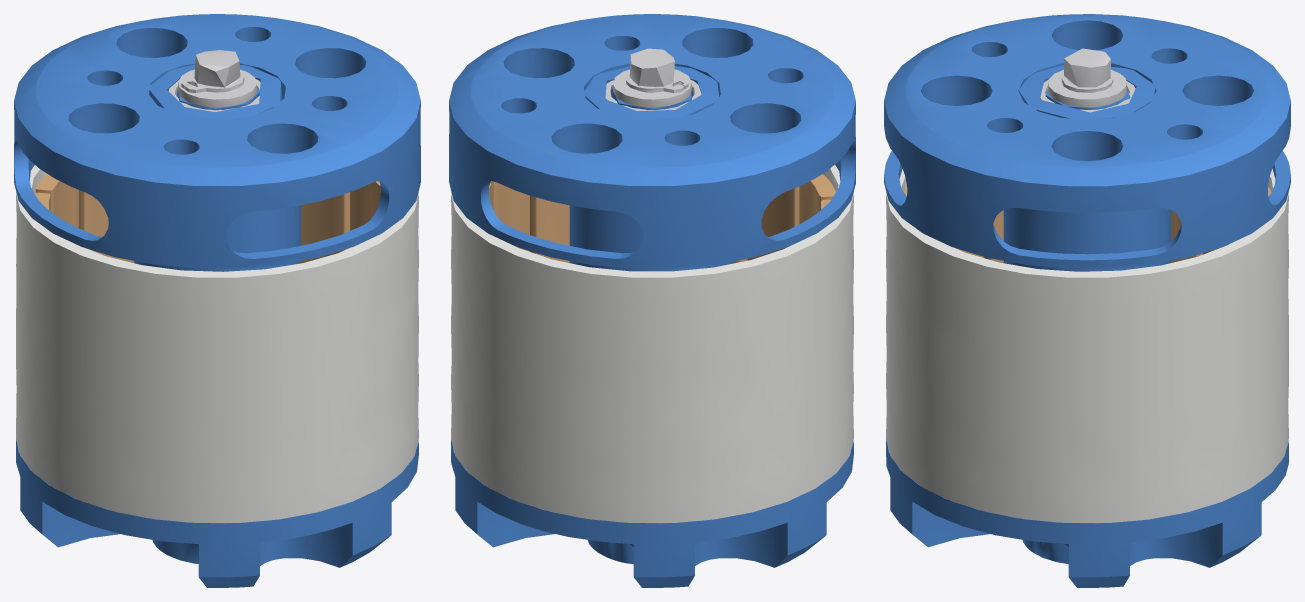
The picture shows the model from 3 angles, left to right: view 1: azimuth 30°, elevation 25°; view 2: azimuth 150°, elevation 25°; view 3: azimuth 270°, elevation 25°; orthographic projection.
Visible parts, largest first — view 1: x2216_part_003, x2216_part_001, x2216_part_018, x2216_part_020, x2216_part_009, x2216_part_019, x2216_part_002, x2216_part_005, x2216_part_006, x2216_part_010, x2216_part_040; view 2: x2216_part_003, x2216_part_001, x2216_part_018, x2216_part_020, x2216_part_011, x2216_part_019, x2216_part_010, x2216_part_014, x2216_part_002, x2216_part_015, x2216_part_040; view 3: x2216_part_003, x2216_part_001, x2216_part_018, x2216_part_020, x2216_part_002, x2216_part_019.
Part boxes in pixels (<box>): x2216_part_003: <box>16,165,418,522</box>; x2216_part_001: <box>14,14,420,271</box>; x2216_part_018: <box>16,439,418,587</box>; x2216_part_020: <box>149,65,282,119</box>; x2216_part_009: <box>301,192,349,263</box>; x2216_part_019: <box>194,50,240,92</box>; x2216_part_002: <box>178,69,257,107</box>; x2216_part_005: <box>35,174,78,243</box>; x2216_part_006: <box>79,190,133,262</box>; x2216_part_010: <box>350,181,380,230</box>; x2216_part_040: <box>181,72,244,92</box>; x2216_part_003: <box>451,165,853,522</box>; x2216_part_001: <box>449,14,855,271</box>; x2216_part_018: <box>451,439,853,587</box>; x2216_part_020: <box>584,66,718,119</box>; x2216_part_011: <box>530,195,569,262</box>; x2216_part_019: <box>629,48,674,92</box>; x2216_part_010: <box>490,181,529,251</box>; x2216_part_014: <box>747,186,799,260</box>; x2216_part_002: <box>613,69,691,107</box>; x2216_part_015: <box>799,174,835,224</box>; x2216_part_040: <box>625,72,688,93</box>; x2216_part_003: <box>886,168,1288,522</box>; x2216_part_001: <box>884,14,1290,271</box>; x2216_part_018: <box>886,439,1288,587</box>; x2216_part_020: <box>1018,65,1155,119</box>; x2216_part_002: <box>1048,69,1126,107</box>; x2216_part_019: <box>1064,48,1110,87</box>.
Bounding box in the file's own units: 0.028 × 0.0365 × 0.028.
